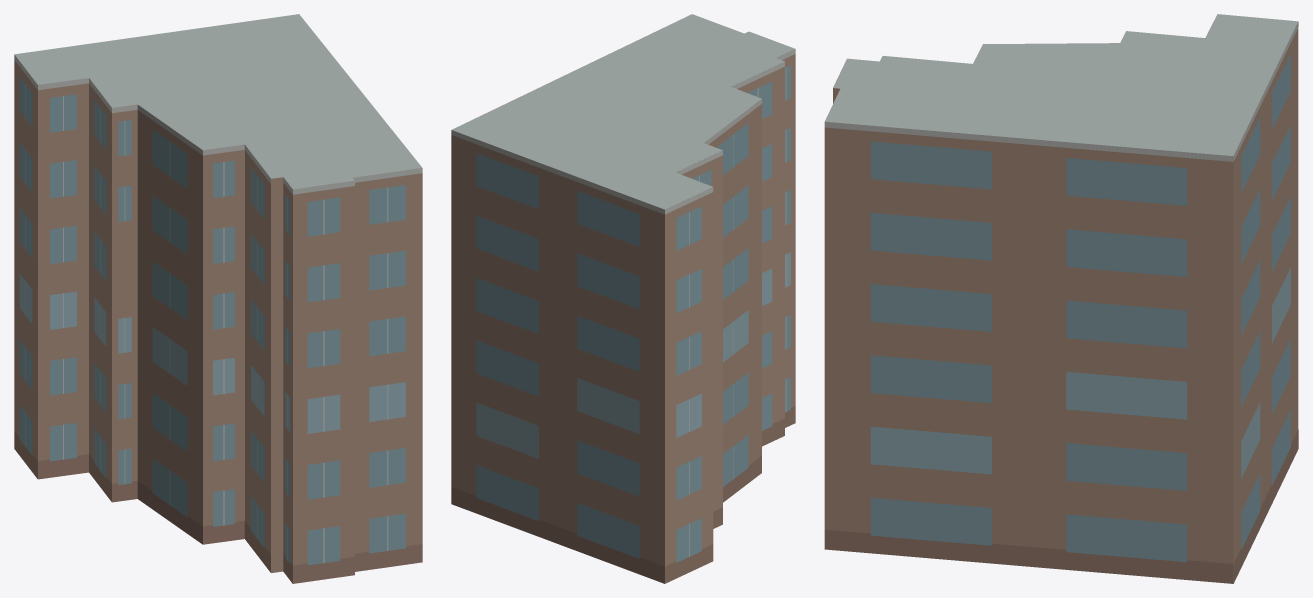
Rendered from survey-upis-32643099.glb.
3 renders of one model, left to right at view 1: azimuth 30°, elevation 25°; view 2: azimuth 150°, elevation 25°; view 3: azimuth 270°, elevation 25°, orthographic. The views are drawn at different scales.
Parts seen in each view (by area): view 1: survey-upis-32643099.tmp; view 2: survey-upis-32643099.tmp; view 3: survey-upis-32643099.tmp.
Part boxes in pixels (left/top/right/bottom): survey-upis-32643099.tmp: left=14, top=14, right=422, bottom=583; survey-upis-32643099.tmp: left=451, top=14, right=795, bottom=583; survey-upis-32643099.tmp: left=824, top=14, right=1298, bottom=583.
Bounding box in the file's own units: 13.06 × 18.3 × 18.38.
